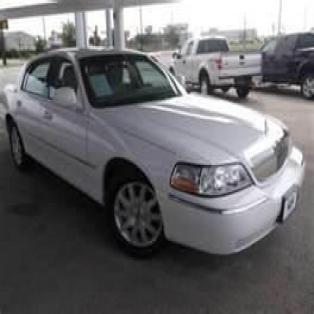Auto: (4, 46, 308, 249)
